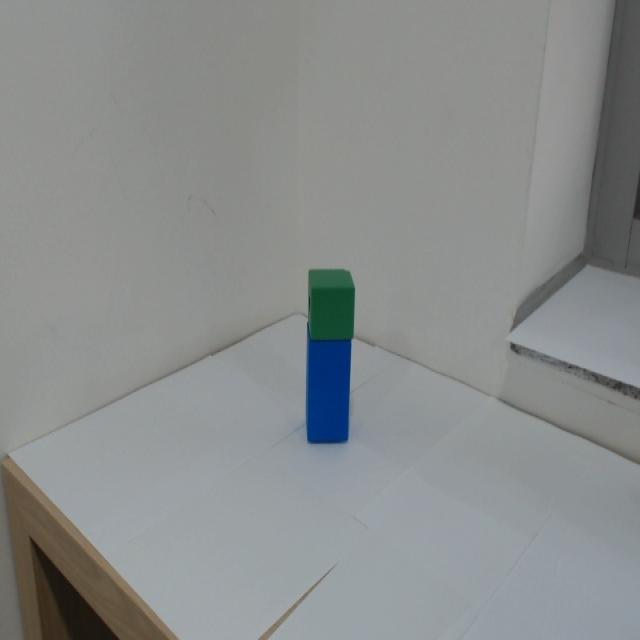cube: (303, 262, 366, 341)
